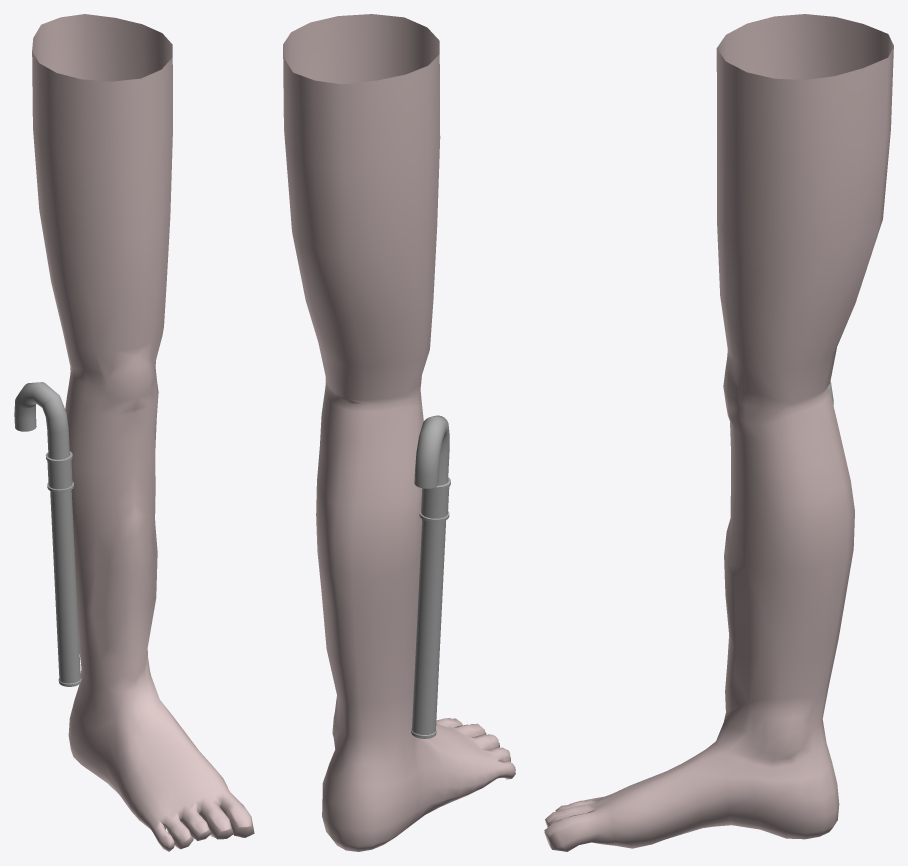
File: FBX_Fracture_Leg_2.fbx
3 views of the same model, side by side, from view 1: azimuth 30°, elevation 25°; view 2: azimuth 150°, elevation 25°; view 3: azimuth 270°, elevation 25° (orthographic). The views are drawn at different scales.
Visible parts, largest first — view 1: polySurface5, polySurface4; view 2: polySurface5, polySurface4; view 3: polySurface5.
Part boxes in pixels (x1,y1,x2,y2): polySurface5: [32, 14, 254, 851]; polySurface4: [14, 382, 81, 686]; polySurface5: [283, 14, 515, 851]; polySurface4: [411, 415, 450, 738]; polySurface5: [544, 14, 893, 851].
Bounding box in the file's own units: 1.64 × 8.14 × 3.25.
